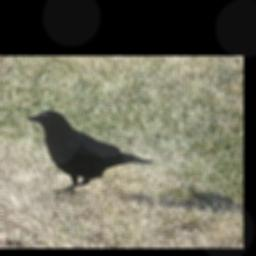Crow: (23, 107, 150, 193)
